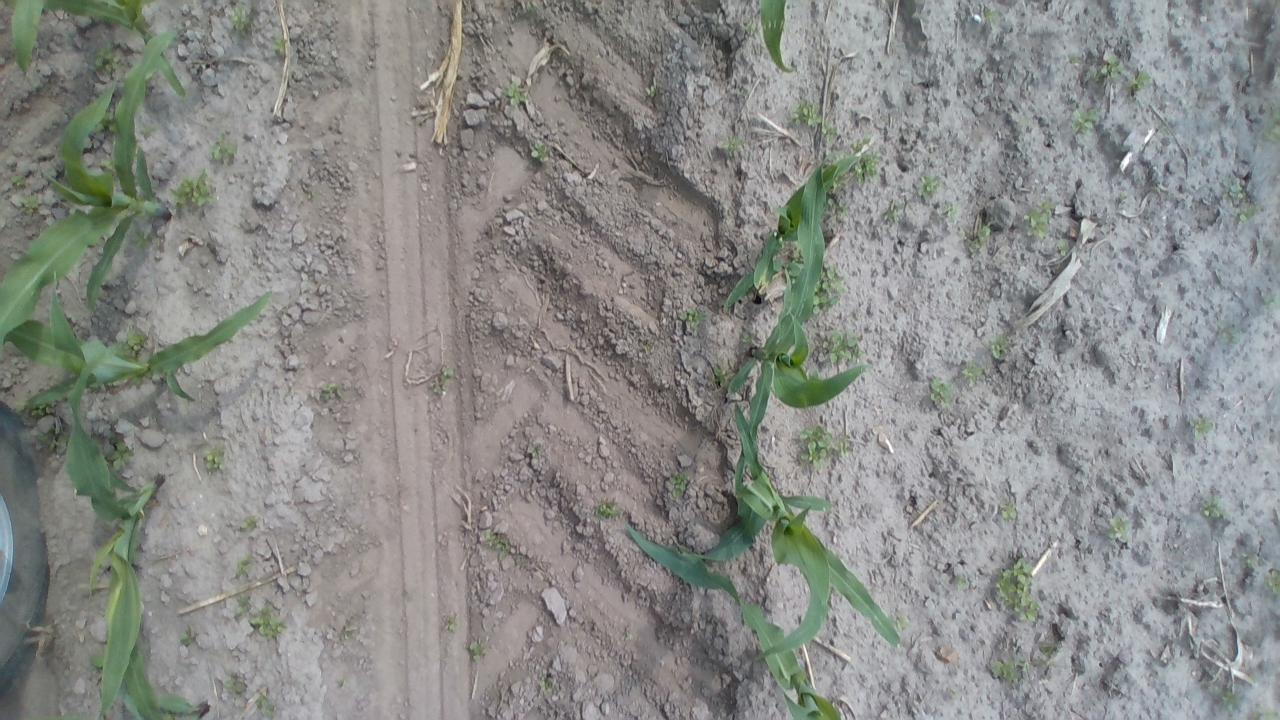Maize: (0, 30, 178, 355), (723, 156, 873, 530), (662, 455, 902, 669), (621, 516, 854, 719), (70, 368, 178, 716), (0, 280, 279, 413), (718, 144, 870, 322), (4, 0, 191, 104), (758, 0, 799, 79)
Weeds: (994, 557, 1041, 622), (172, 168, 216, 210), (799, 422, 833, 468), (812, 264, 844, 312), (250, 604, 286, 640), (1024, 199, 1056, 239), (822, 330, 859, 364), (851, 150, 883, 184), (790, 98, 824, 130), (965, 216, 992, 255), (482, 528, 518, 557), (210, 132, 240, 166), (90, 43, 122, 74), (226, 4, 256, 35), (927, 377, 956, 406), (106, 439, 134, 469), (116, 330, 150, 354), (1069, 108, 1100, 134), (37, 425, 65, 453), (1094, 54, 1122, 81), (430, 366, 456, 395), (990, 658, 1020, 683), (590, 499, 620, 524), (252, 690, 278, 718), (1106, 514, 1132, 540), (916, 171, 941, 198), (1199, 492, 1224, 518), (502, 81, 528, 106), (316, 383, 346, 404), (988, 335, 1014, 359), (718, 133, 744, 157), (1127, 68, 1151, 94), (682, 308, 708, 332), (669, 472, 690, 501), (1186, 417, 1214, 438), (1223, 177, 1248, 200), (202, 447, 225, 472), (221, 677, 250, 696), (1232, 204, 1259, 223), (468, 636, 488, 660), (24, 400, 55, 415), (1221, 690, 1243, 711), (1243, 552, 1261, 577), (939, 200, 960, 221), (829, 195, 848, 218), (18, 194, 38, 215), (530, 142, 550, 163), (885, 200, 903, 223), (960, 364, 983, 382), (821, 120, 839, 143), (714, 362, 730, 387), (235, 556, 253, 578), (1264, 568, 1278, 595), (442, 613, 461, 632), (271, 35, 290, 54), (180, 626, 197, 647), (235, 597, 251, 619), (1218, 326, 1239, 342), (242, 514, 260, 532), (1251, 707, 1278, 719), (1000, 501, 1018, 519), (836, 439, 852, 458), (744, 17, 758, 38), (536, 674, 554, 690), (892, 612, 908, 630), (983, 6, 999, 23), (10, 174, 26, 190), (1263, 290, 1277, 308), (138, 124, 158, 136), (646, 81, 660, 98), (954, 575, 969, 590), (1021, 659, 1034, 675)
